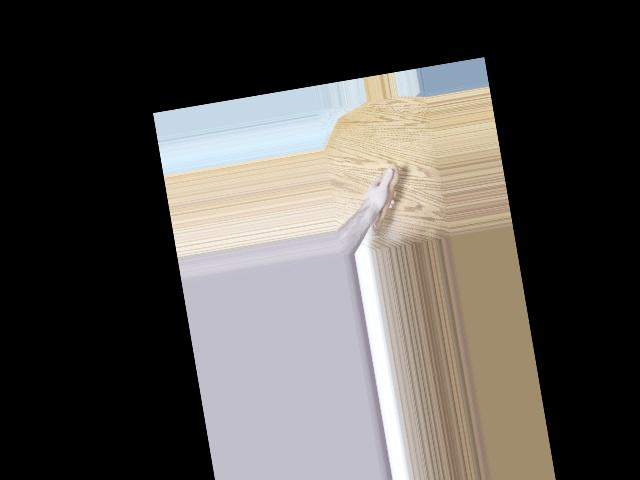sweet_potato: (358, 161, 411, 242)
